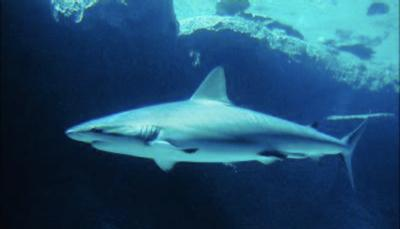Shark -Selachimorpha-: (62, 63, 370, 193)
